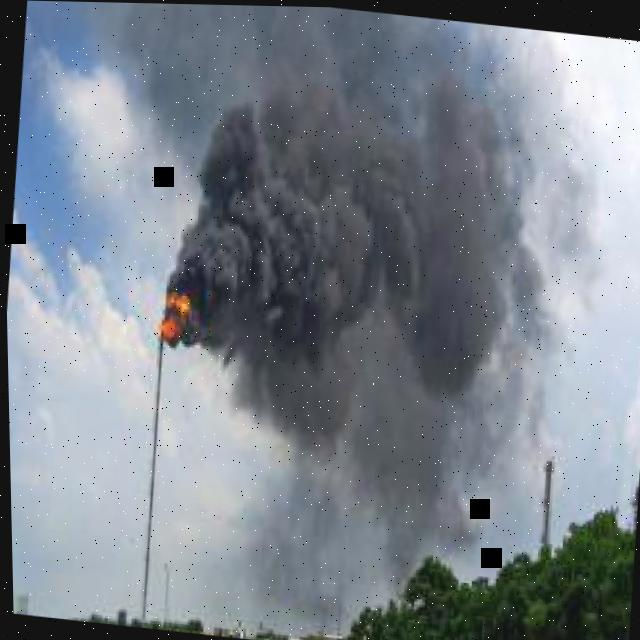fire: (155, 291, 188, 347)
smoke: (22, 0, 607, 626)
